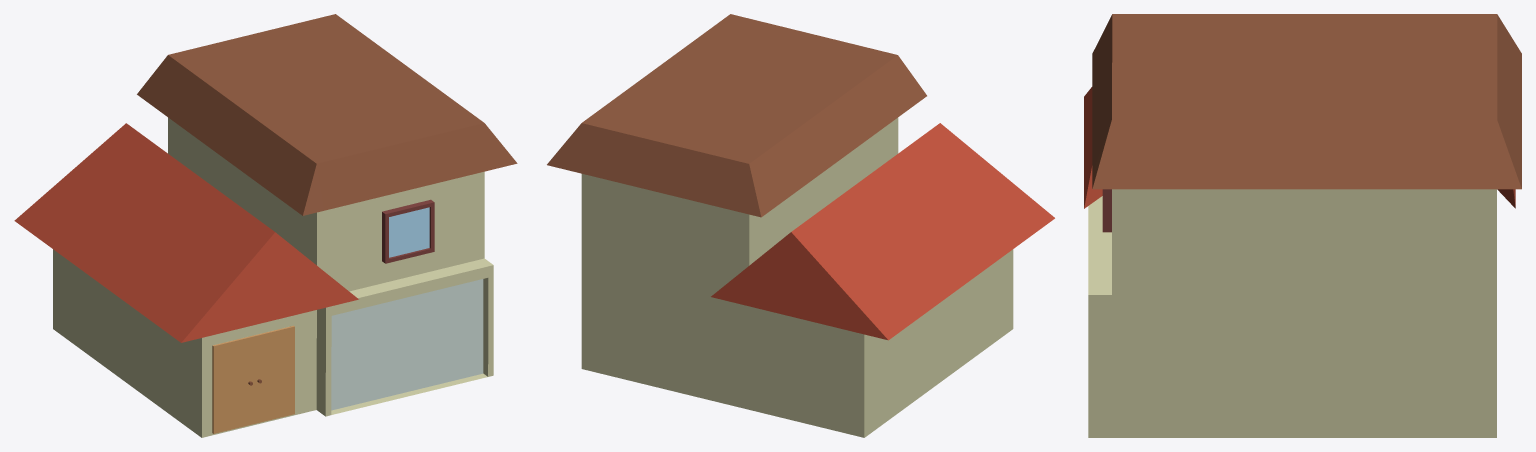
The model's file is house1.gltf.
3 renders of one model, left to right at view 1: azimuth 30°, elevation 25°; view 2: azimuth 150°, elevation 25°; view 3: azimuth 270°, elevation 25°, orthographic. The views are drawn at different scales.
Visible parts, largest first — view 1: 房顶2, 墙体, 房顶, 车库门, 大门, 窗, 窗框; view 2: 墙体, 房顶2, 房顶; view 3: 墙体, 房顶2, 房顶, 窗框.
Part boxes in pixels (x1,y1,x2,y2): 房顶2: (137, 14, 517, 215); 墙体: (53, 117, 493, 437); 房顶: (14, 123, 358, 342); 车库门: (331, 279, 483, 410); 大门: (212, 325, 294, 433); 窗: (389, 207, 429, 257); 窗框: (382, 199, 434, 263); 墙体: (581, 117, 1013, 437); 房顶2: (547, 14, 926, 217); 房顶: (711, 123, 1054, 340); 墙体: (1088, 189, 1496, 437); 房顶2: (1092, 14, 1521, 189); 房顶: (1084, 87, 1515, 208); 窗框: (1102, 189, 1111, 232).
Size of the model in its own units: 11.19 by 7.74 by 9.65.
